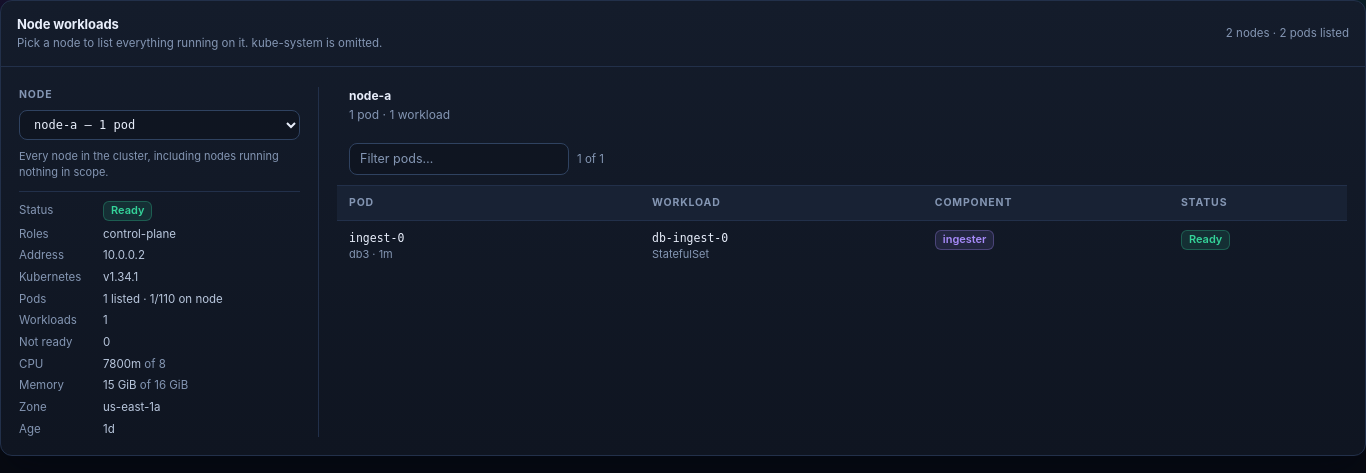
it: selecting another node swaps the list
The image size is (1366, 473).
Expected: the text "ingest-0" is shown, [349, 231, 404, 245]
Select "node-b — 1 pod" in the dropdown labelled "Node" at {"x": 160, "y": 125}, box [19, 110, 300, 140]
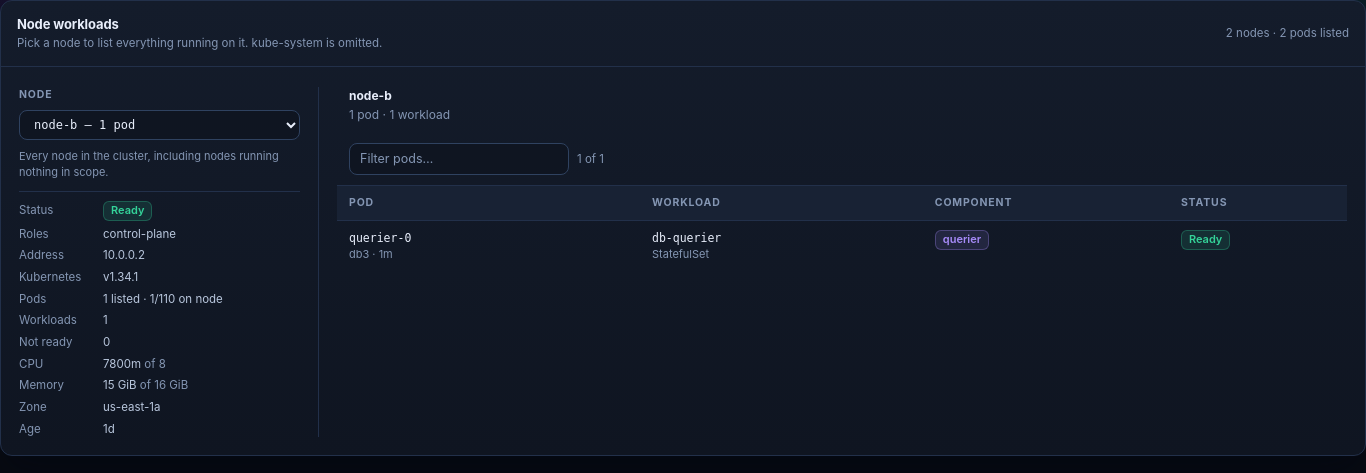
Result: the text "querier-0" is shown at [349, 231, 411, 245]
Result: the text "ingest-0" is gone
